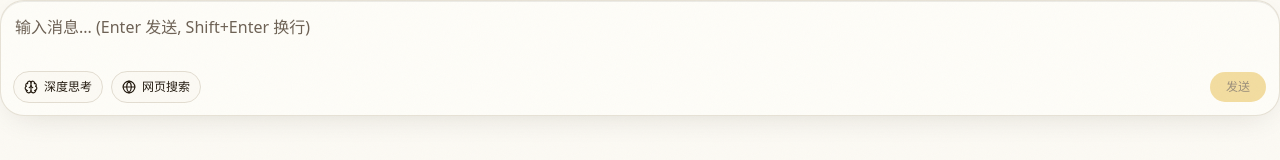
it: ChatInput › 发送后清空输入
Type "你好" into the text box at [640, 35], box left=13, top=13, right=1267, bottom=57
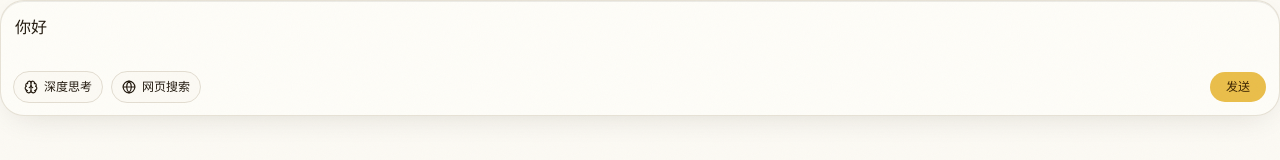
Click the button "发送" at [1238, 87], box left=1209, top=71, right=1267, bottom=103
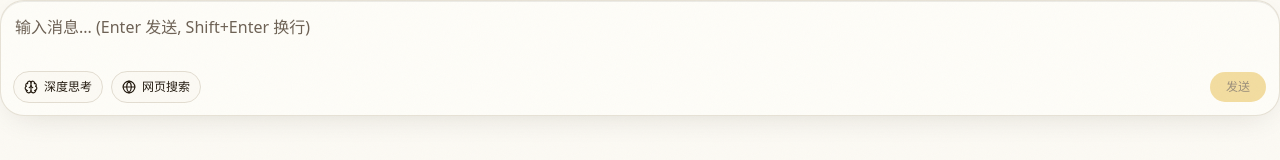
Expected: the text box is empty, left=13, top=13, right=1267, bottom=57
Expected: the button "发送" is disabled, left=1209, top=71, right=1267, bottom=103
